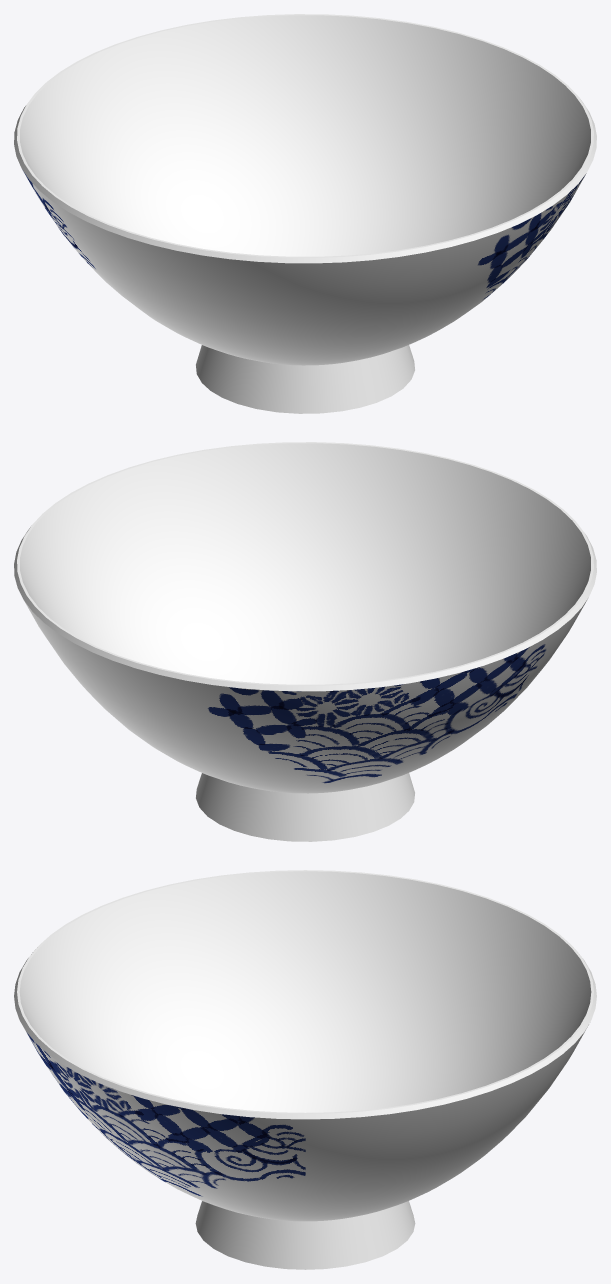
3 views of the same model, one above another, from view 1: azimuth 30°, elevation 25°; view 2: azimuth 150°, elevation 25°; view 3: azimuth 270°, elevation 25° (orthographic).
Parts seen in each view (by area): view 1: Body1.001; view 2: Body1.001; view 3: Body1.001.
Part boxes in pixels (box(x1,y1,x2,y2)): Body1.001: box(14, 14, 596, 413); Body1.001: box(14, 442, 596, 841); Body1.001: box(14, 870, 596, 1269).
Size of the model in its own units: 11.42 by 5 by 11.42.
2 materials, 1 textured.
